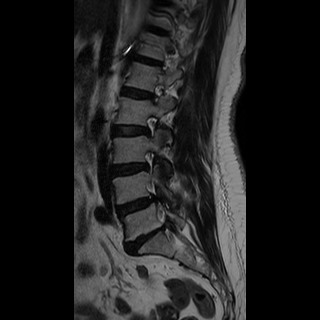RFS0: (139, 110, 167, 143), (143, 77, 171, 109)
